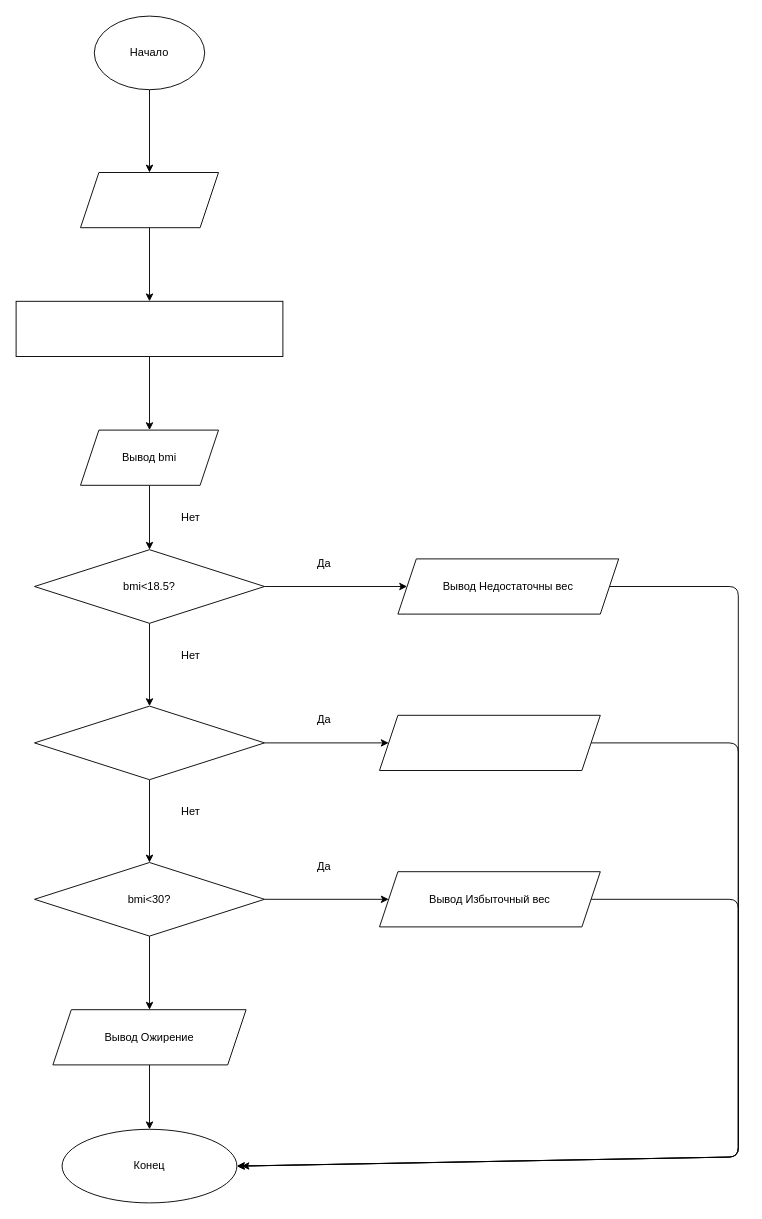
This 762x1219 diagram has some shape labels left out. The centre of each missing label's shape, as x and y in pixels:
bmi<25?: the point at 149,742
bmi=weight/(height/100)*(height/100): the point at 149,328
Ввод weight, height: the point at 149,200
Вывод Нормальный вес: the point at 489,742
